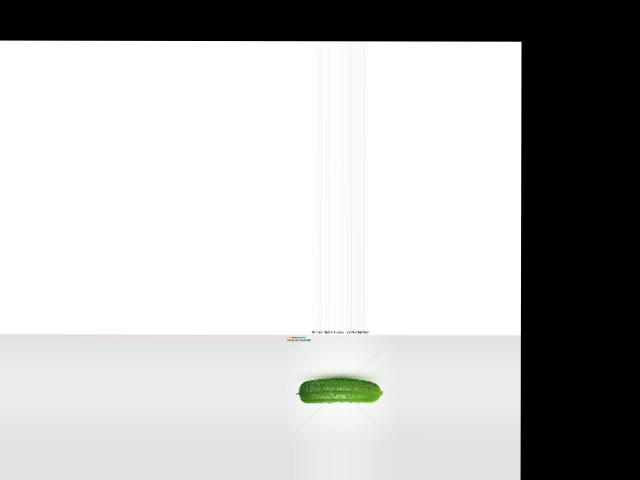cucumber: (296, 378, 384, 403)
